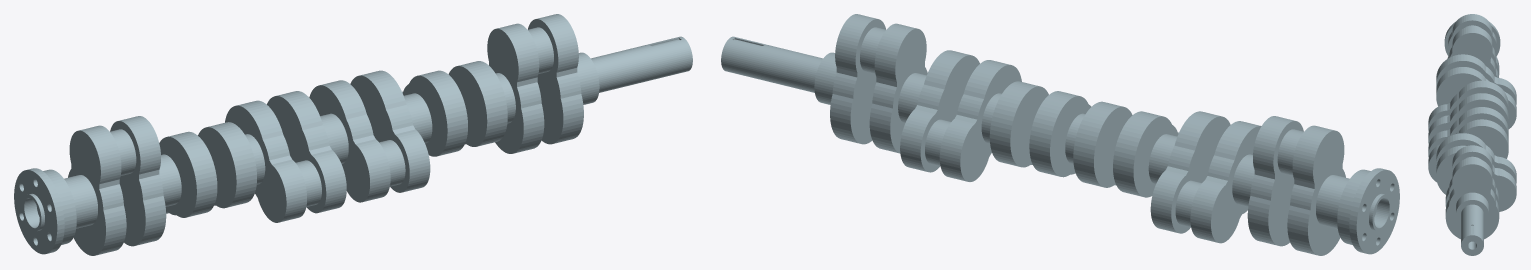
The model's file is crankshaft.glb.
3 views of the same model, side by side, from view 1: azimuth 30°, elevation 25°; view 2: azimuth 150°, elevation 25°; view 3: azimuth 270°, elevation 25° (orthographic). The views are drawn at different scales.
Parts seen in each view (by area): view 1: world; view 2: world; view 3: world.
Part boxes in pixels (x1,y1,x2,y2): world: [14, 14, 692, 255]; world: [721, 14, 1399, 255]; world: [1428, 14, 1516, 255].
Size of the model in its own units: 0.888 by 0.1565 by 0.1615.
